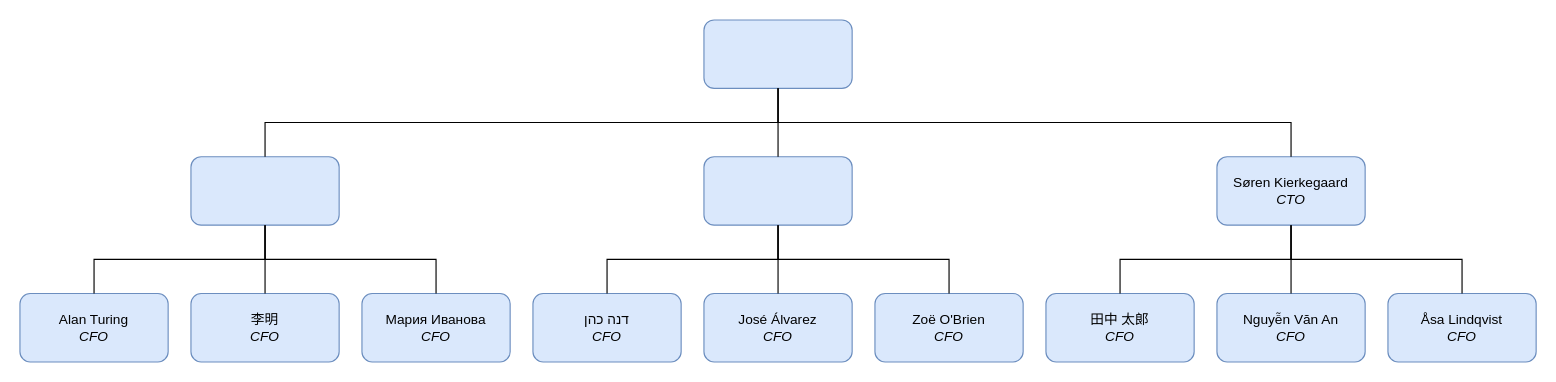
Some shapes in this 1556 by 382 pixel diagram are drawn without their labels. Each missing label, with the centre of its shape:
"Ada Lovelace CEO" goes at pixel 777 53.
"Grace Hopper CTO" goes at pixel 264 190.
"محمد علي CTO" goes at pixel 777 190.
